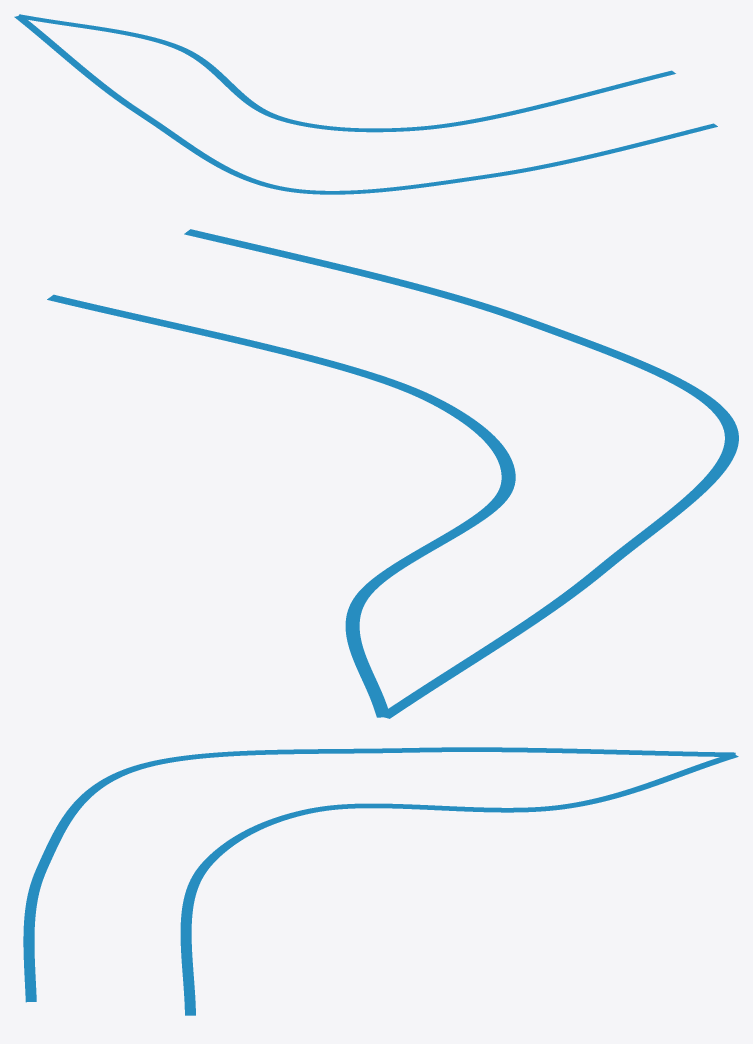
File: guide.glb
3 views of the same model, one above another, from view 1: azimuth 30°, elevation 25°; view 2: azimuth 150°, elevation 25°; view 3: azimuth 270°, elevation 25° (orthographic). The views are drawn at different scales.
Parts seen in each view (by area): view 1: static; view 2: static; view 3: static.
Part boxes in pixels (x1,y1,x2,y2): static: [14, 14, 717, 194]; static: [47, 229, 738, 718]; static: [23, 747, 738, 1015].
Bounding box in the file's own units: 19.34 × 0 × 20.99.
